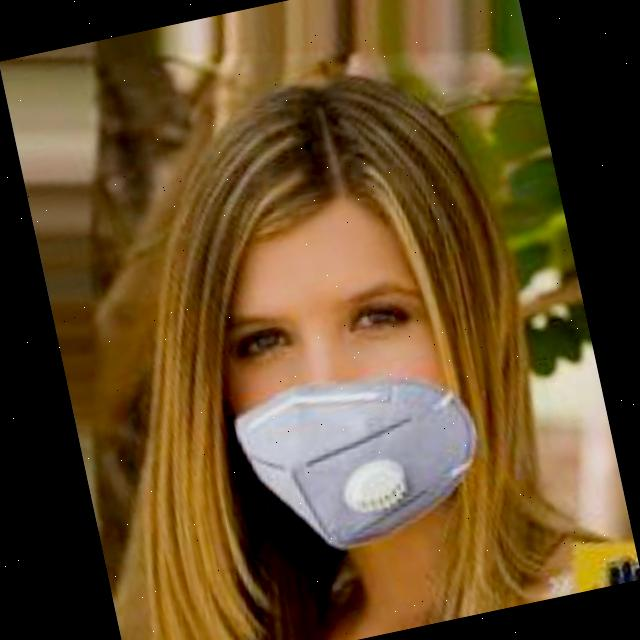suspicion: (110, 0, 545, 595)
